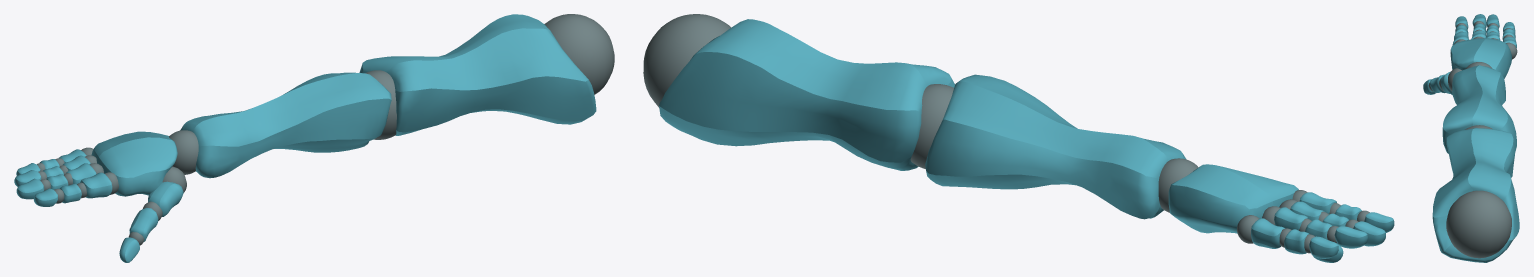
Rendered from Arm_R.fbx.
3 views of the same model, side by side, from view 1: azimuth 30°, elevation 25°; view 2: azimuth 150°, elevation 25°; view 3: azimuth 270°, elevation 25° (orthographic). The views are drawn at different scales.
Parts seen in each view (by area): view 1: Alpha_Surface, Alpha_Joints; view 2: Alpha_Surface, Alpha_Joints; view 3: Alpha_Surface, Alpha_Joints.
Part boxes in pixels (x1,y1,x2,y2): Alpha_Surface: [14, 14, 596, 262]; Alpha_Joints: [37, 14, 614, 245]; Alpha_Surface: [659, 19, 1394, 262]; Alpha_Joints: [643, 14, 1369, 253]; Alpha_Surface: [1423, 14, 1519, 262]; Alpha_Joints: [1428, 21, 1517, 258].
Bounding box in the file's own units: 83.87 × 14.78 × 15.45.
